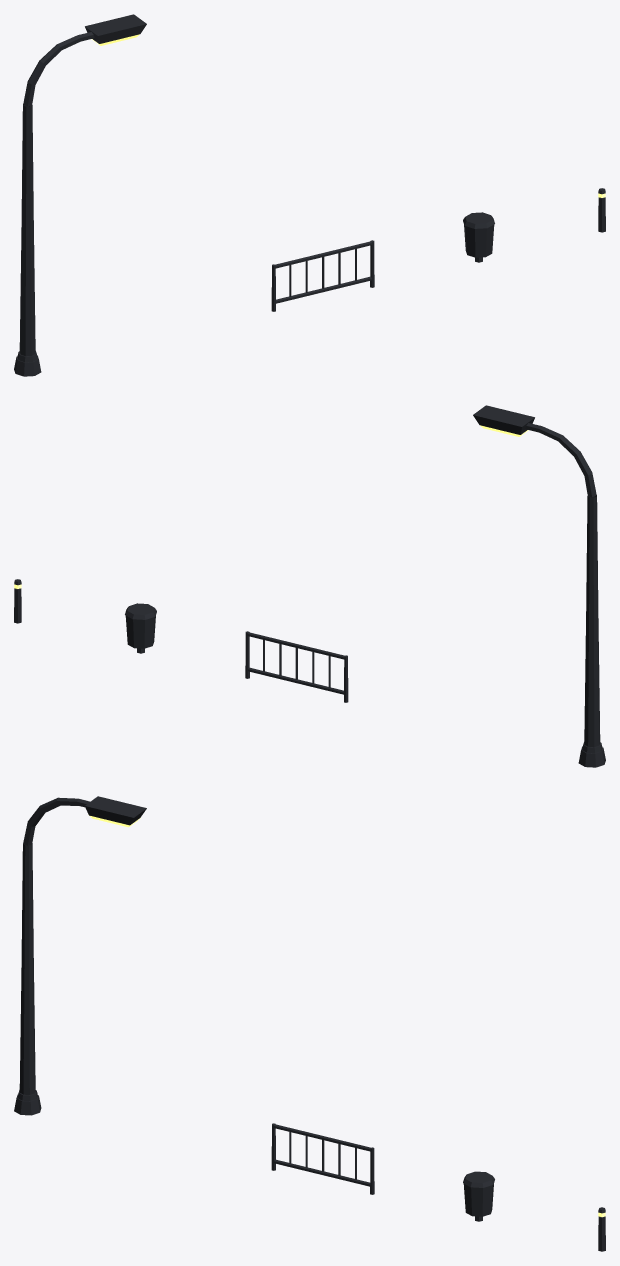
File: mobiliario-urbano.glb
The picture shows the model from 3 angles, top to bottom: view 1: azimuth 30°, elevation 25°; view 2: azimuth 150°, elevation 25°; view 3: azimuth 330°, elevation 25°; orthographic projection.
Visible parts, largest first — view 1: LUM_MASTRO, GRADIL_MODULO, LIXEIRA; view 2: LUM_MASTRO, GRADIL_MODULO, LIXEIRA; view 3: LUM_MASTRO, GRADIL_MODULO, LIXEIRA.
Boxes of the visible parts, left/top/right/bottom form: LUM_MASTRO: left=14, top=14, right=146, bottom=376; GRADIL_MODULO: left=271, top=240, right=374, bottom=311; LIXEIRA: left=463, top=212, right=494, bottom=262; LUM_MASTRO: left=473, top=405, right=605, bottom=767; GRADIL_MODULO: left=245, top=631, right=348, bottom=702; LIXEIRA: left=125, top=603, right=156, bottom=653; LUM_MASTRO: left=14, top=796, right=146, bottom=1115; GRADIL_MODULO: left=271, top=1123, right=374, bottom=1194; LIXEIRA: left=463, top=1171, right=494, bottom=1221.
Bounding box in the file's own units: 14.39 × 7.55 × 0.71.
